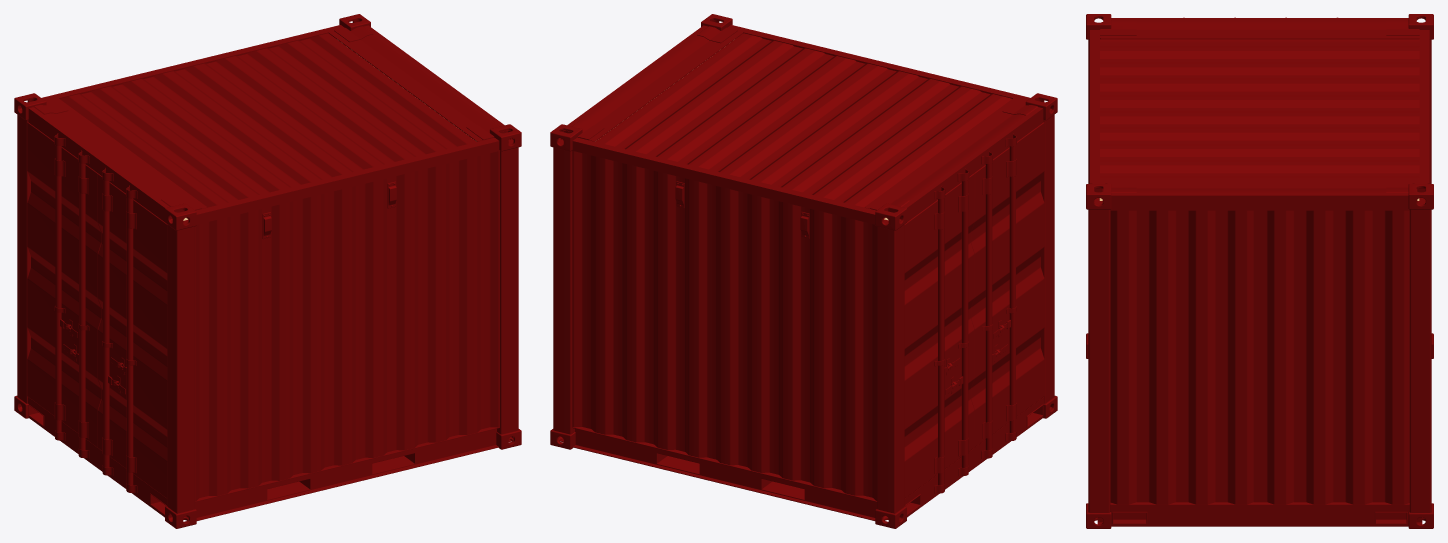
The model's file is container-whole.glb.
3 views of the same model, side by side, from view 1: azimuth 30°, elevation 25°; view 2: azimuth 150°, elevation 25°; view 3: azimuth 270°, elevation 25° (orthographic). The views are drawn at different scales.
Parts seen in each view (by area): view 1: 10FT Container_Exterior_Blank_RearTop_001, 10FT Container_Exterior_Blank_Left_001, 10FT Container_Exterior_Blank_Bottom_001; view 2: 10FT Container_Exterior_Blank_RearTop_001, 10FT Container_Exterior_Blank_Right_001, 10FT Container_Exterior_Blank_Bottom_001; view 3: 10FT Container_Exterior_Blank_RearTop_001, 10FT Container_Exterior_Blank_Front_001.
Part boxes in pixels (bbox=[...]): 10FT Container_Exterior_Blank_RearTop_001: bbox=[14, 14, 521, 528]; 10FT Container_Exterior_Blank_Left_001: bbox=[194, 151, 499, 501]; 10FT Container_Exterior_Blank_Bottom_001: bbox=[194, 427, 499, 520]; 10FT Container_Exterior_Blank_RearTop_001: bbox=[550, 14, 1057, 528]; 10FT Container_Exterior_Blank_Right_001: bbox=[572, 151, 877, 500]; 10FT Container_Exterior_Blank_Bottom_001: bbox=[572, 427, 877, 520]; 10FT Container_Exterior_Blank_RearTop_001: bbox=[1086, 14, 1433, 528]; 10FT Container_Exterior_Blank_Front_001: bbox=[1110, 210, 1409, 504].
Bounding box in the file's own units: 3.03 × 2.59 × 2.44.
9 materials, 2 textured.
